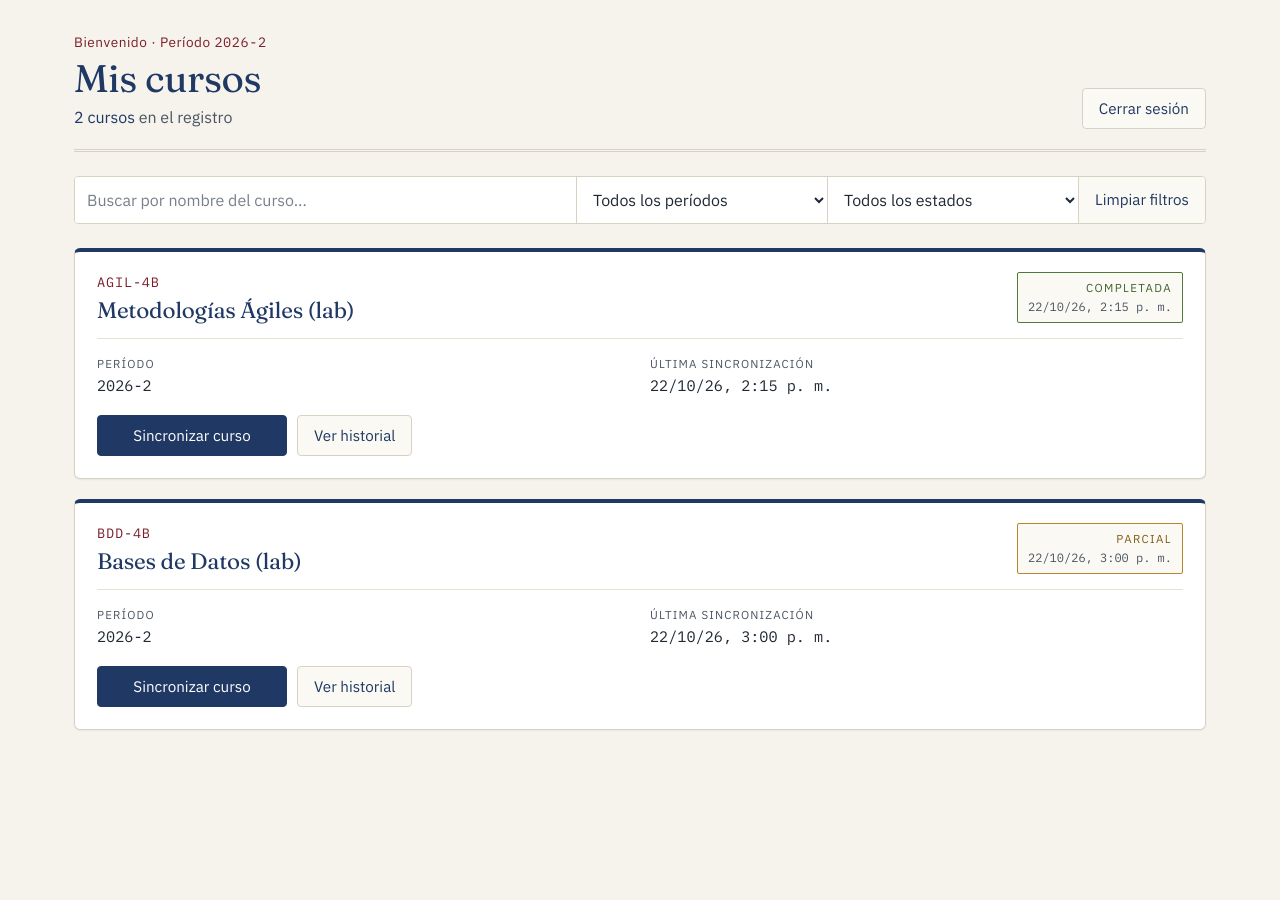
Mis cursos › una sincronización PARCIAL no cuenta como completa
Expected: the heading "Bases de Datos (lab)" is shown, x1=97 y1=547 x2=302 y2=575
Select "Sincronización completa" in the dropdown named "filtrar por sincronización" at (954, 200), box x1=828 y1=176 x2=1079 y2=222
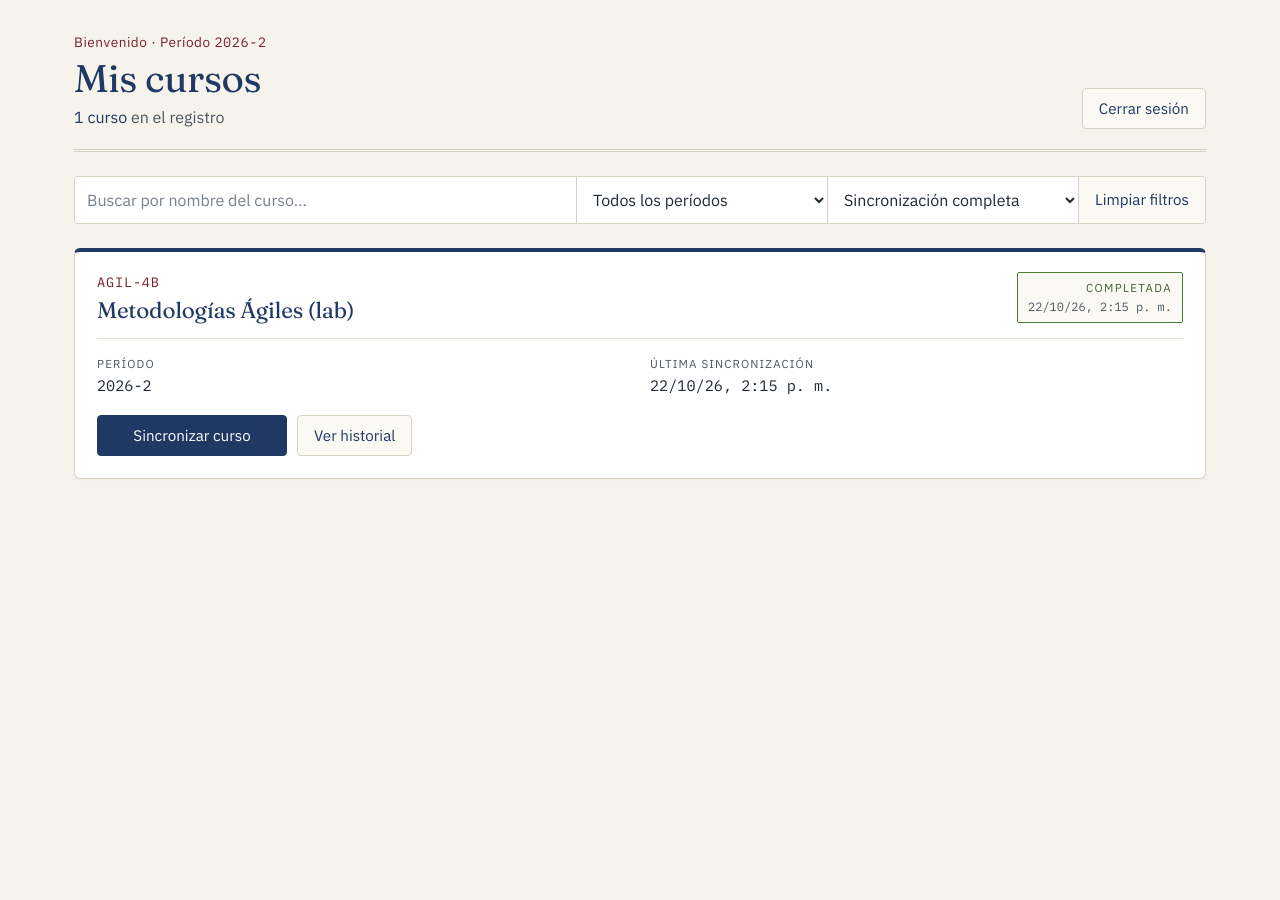
Expected: the heading "Metodologías Ágiles (lab)" is shown, x1=97 y1=296 x2=354 y2=324
Expected: the heading "Bases de Datos (lab)" is gone
Select "Incompleta o sin sincronizar" in the dropdown named "filtrar por sincronización" at (954, 200), box x1=828 y1=176 x2=1079 y2=222
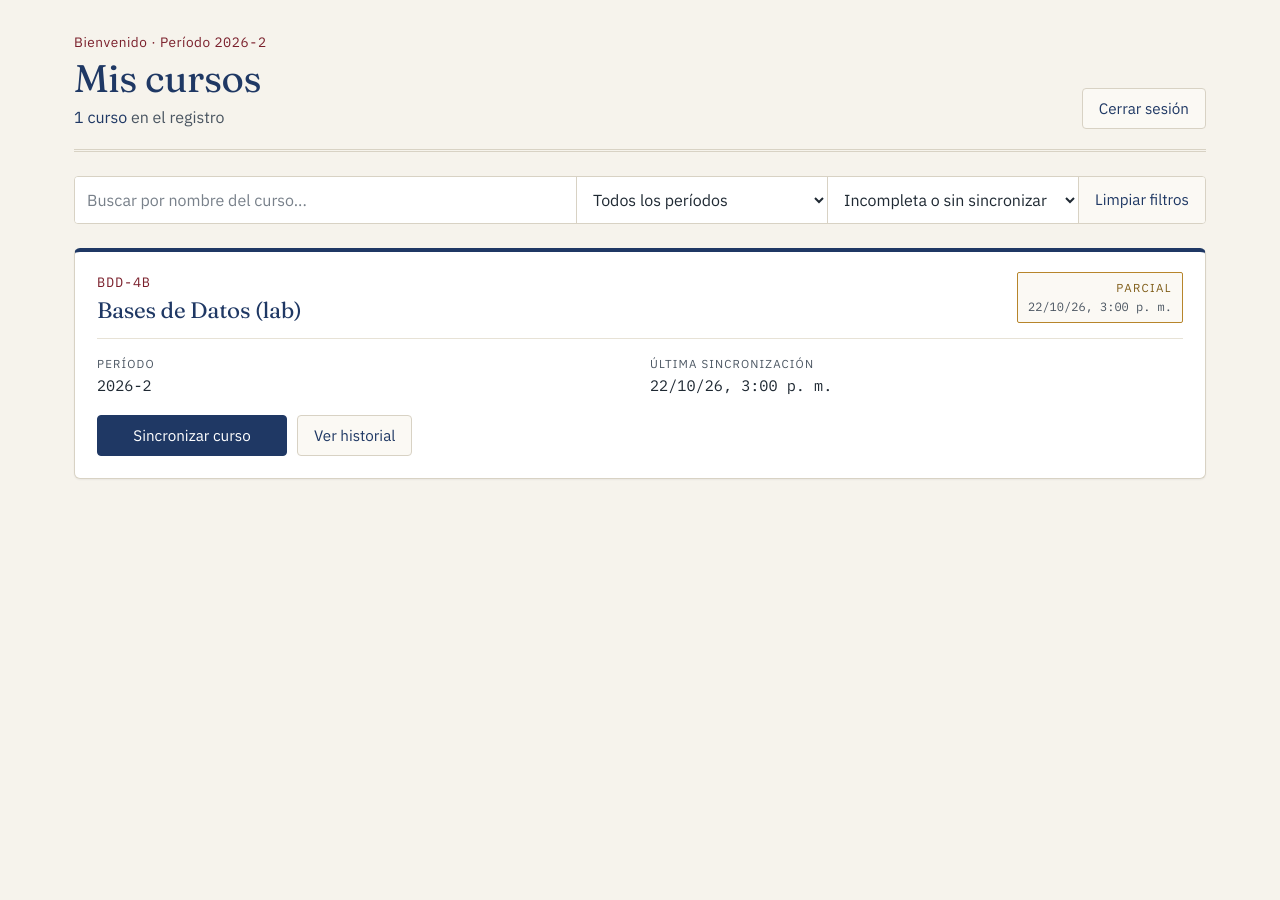
Expected: the heading "Bases de Datos (lab)" is shown, x1=97 y1=296 x2=302 y2=324
